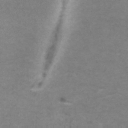finishing roll printing: (43, 0, 68, 70), (42, 72, 48, 80), (37, 82, 44, 88)
